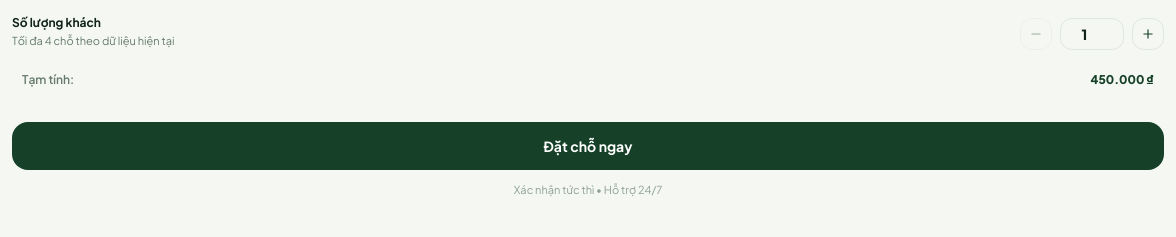
Scenario: BookingPanel › renders accessible validation for 0
Step 1. Replace the text in the number field labelled "Số lượng khách" with "0" → point(1092, 34), box 1060,18 -> 1124,50
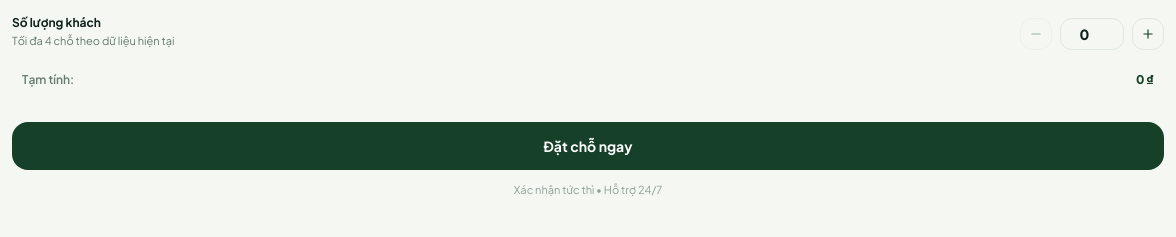
Step 2. Click the button "Đặt chỗ ngay" → point(588, 146), box 12,122 -> 1164,170
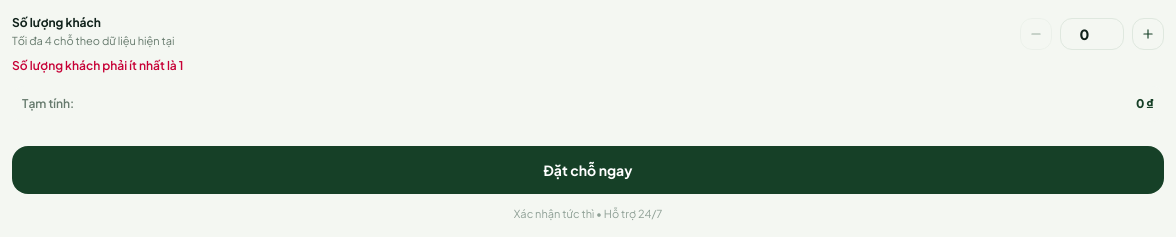
expect the message reads "Số lượng khách phải ít nhất là 1": met, box 12,58 -> 184,72
